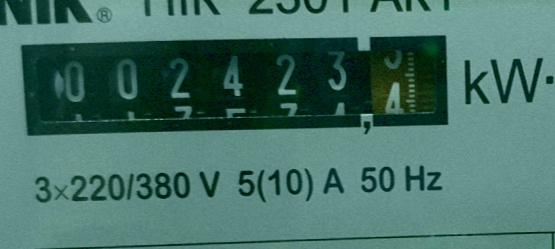0: (62, 56, 89, 104), (115, 56, 141, 101)
2: (167, 53, 193, 100), (275, 51, 299, 97)
3: (326, 47, 350, 92), (383, 46, 405, 69)
4: (222, 52, 245, 98), (382, 77, 407, 115)
screen: (11, 23, 463, 147)
